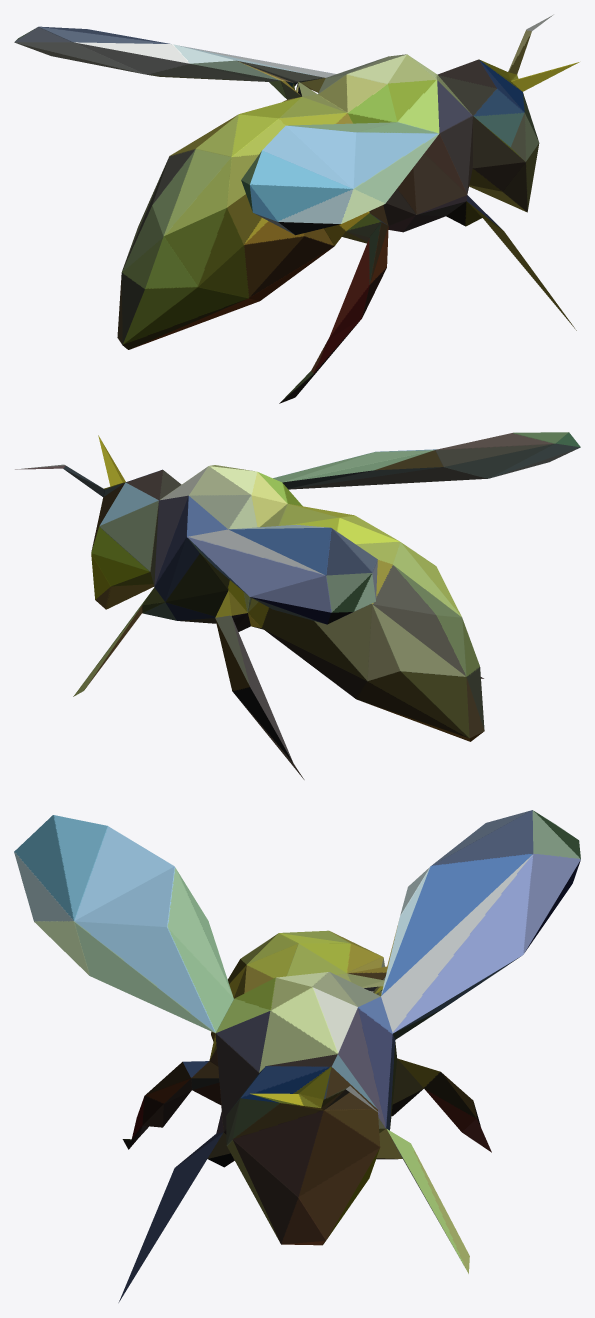
The model's file is bee.fbx.
3 renders of one model, top to bottom at view 1: azimuth 30°, elevation 25°; view 2: azimuth 150°, elevation 25°; view 3: azimuth 270°, elevation 25°, orthographic. The views are drawn at different scales.
Parts seen in each view (by area): view 1: Mesh_0; view 2: Mesh_0; view 3: Mesh_0.
Part boxes in pixels (box(x1,y1,x2,y2)): Mesh_0: box(14, 14, 579, 403); Mesh_0: box(15, 432, 580, 779); Mesh_0: box(14, 810, 580, 1302).
Bounding box in the file's own units: 119 × 64.05 × 110.
1 material, 1 textured.
